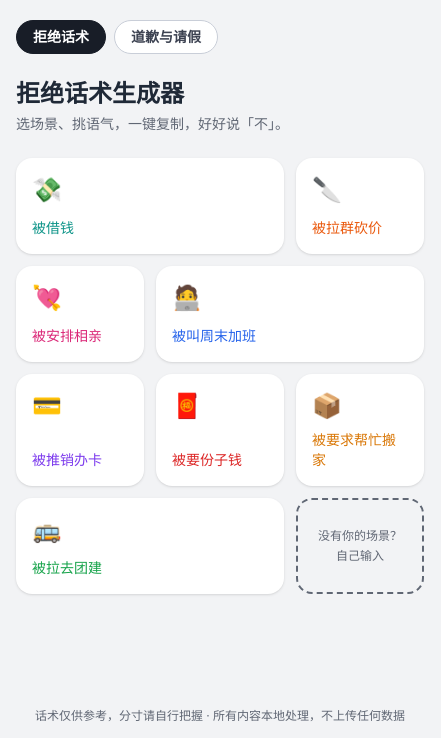
Test case: App › 顶层双 tab：默认拒绝话术按下，切换上报 mode_selected
The width and height of the screenshot is (441, 738).
Step 1. Click the button "道歉与请假" → [166, 37], box x1=114 y1=20 x2=218 y2=54
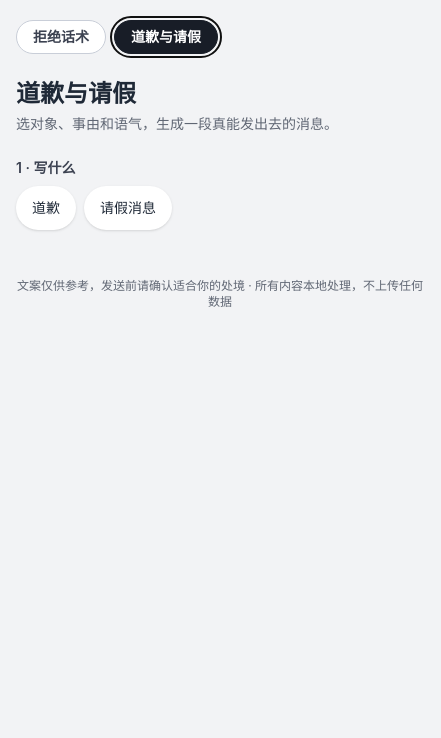
Check: the button "被借钱" is gone
